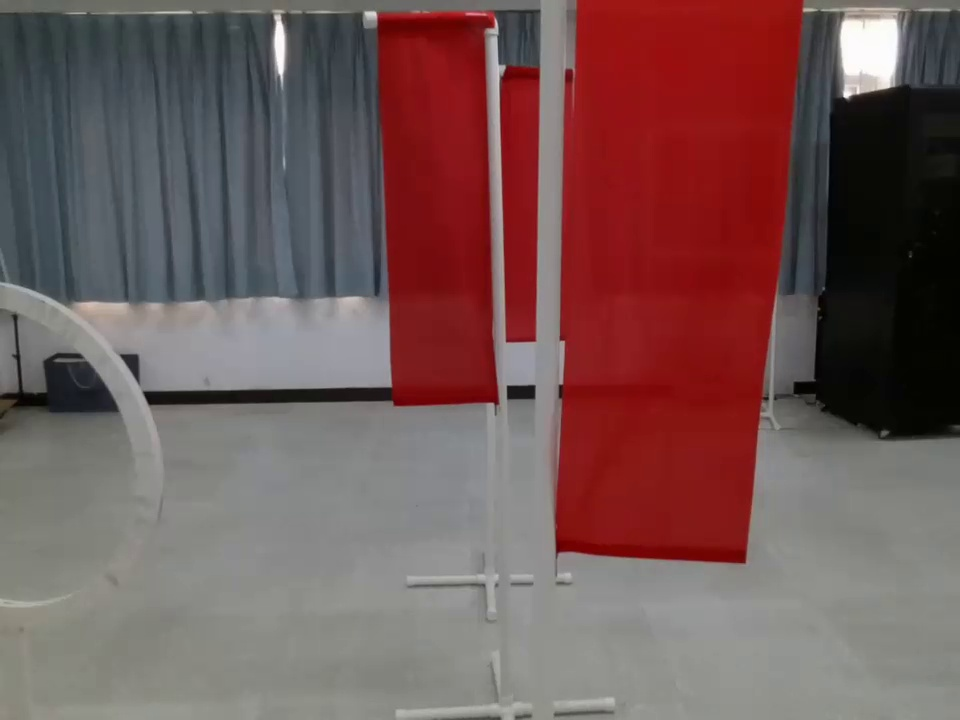qi: (534, 1, 799, 606), (356, 9, 513, 426)
quan: (1, 276, 161, 612)
